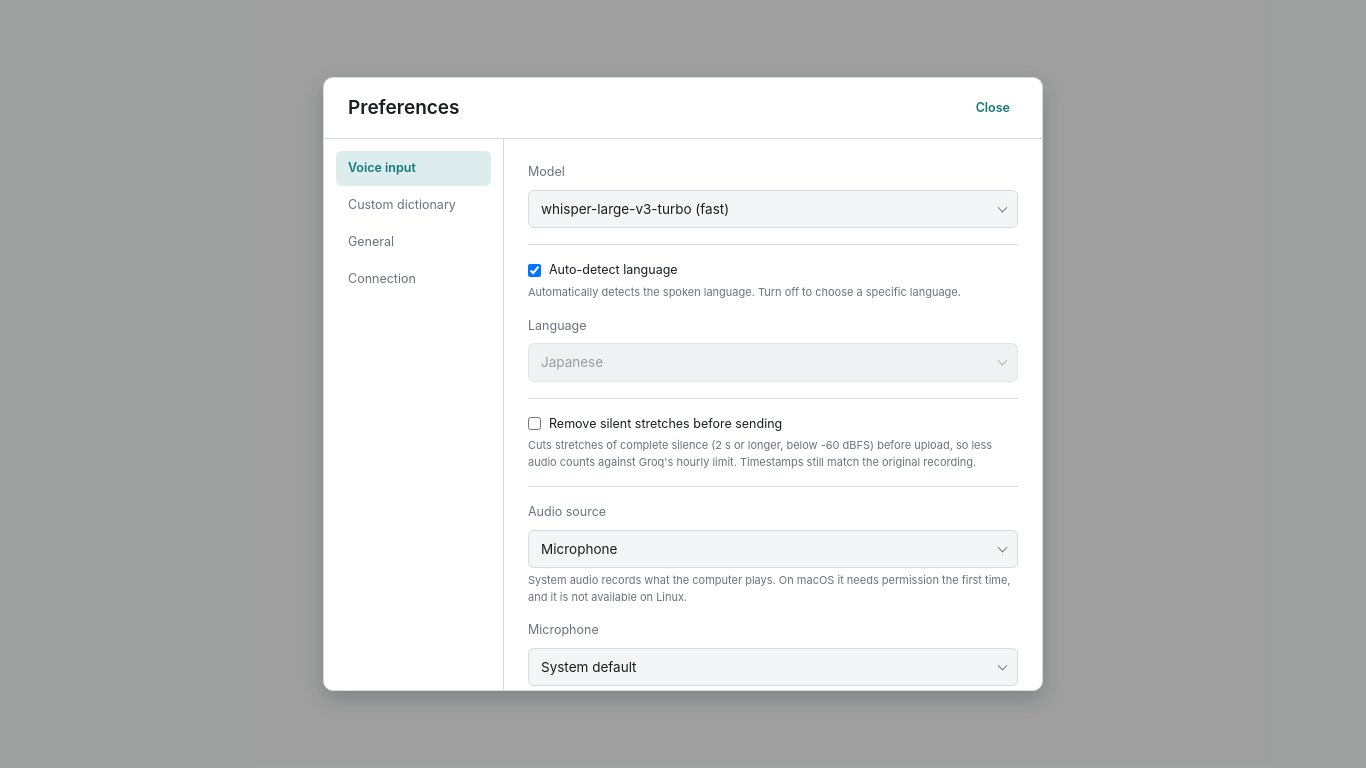
Test: PreferencesView - API key › shows 'not set' when no key is saved yet
Click the button "Connection".
click(414, 279)  # box x1=336 y1=262 x2=491 y2=296
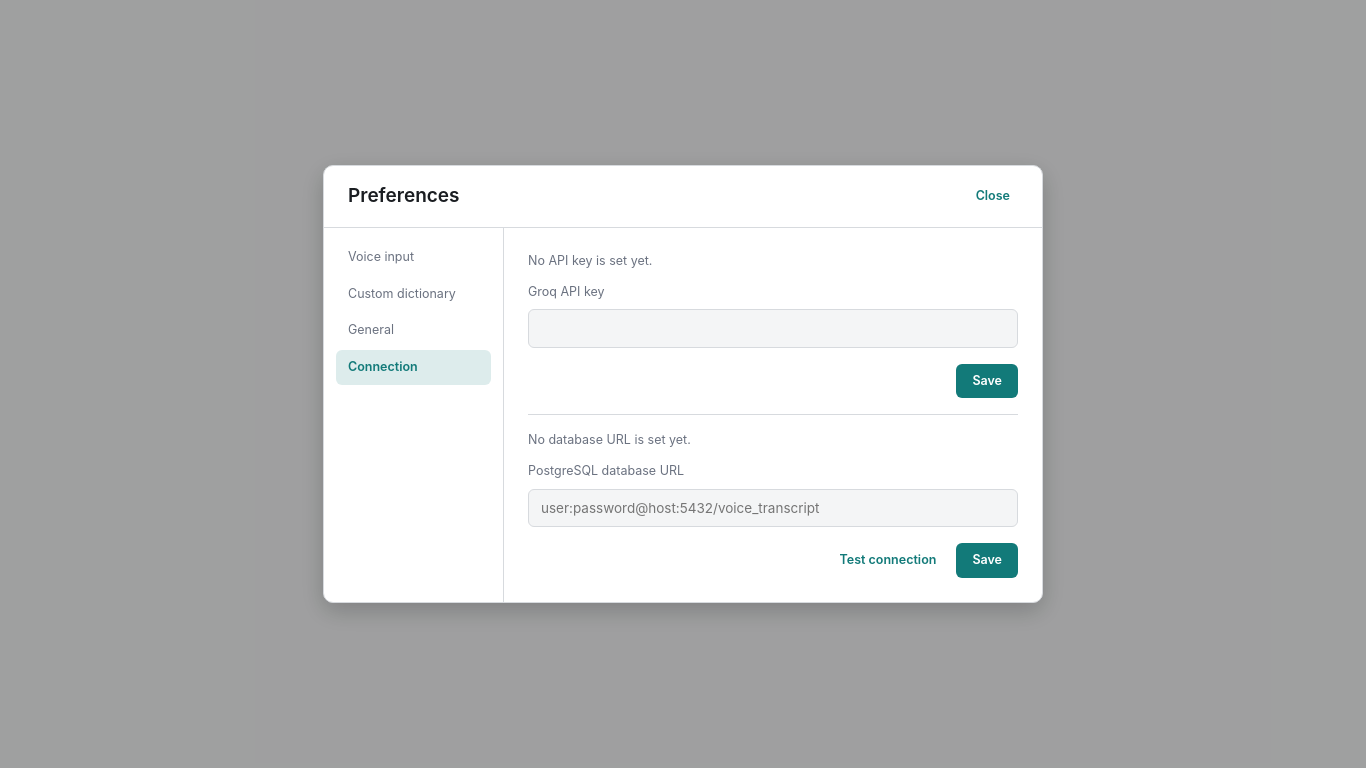
Result: the password field labelled "Groq API key" is shown at x1=528 y1=309 x2=1018 y2=348
Result: the text "No API key is set yet." is shown at x1=528 y1=253 x2=652 y2=268
